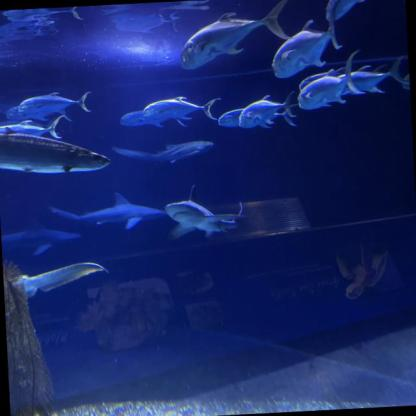fish: (174, 3, 292, 69), (0, 124, 121, 177), (264, 21, 340, 83), (293, 54, 366, 112), (111, 138, 211, 169), (234, 93, 298, 129), (340, 57, 402, 94), (16, 89, 97, 117), (296, 65, 366, 96), (142, 95, 219, 123), (210, 107, 300, 130), (118, 107, 192, 132), (0, 121, 75, 145), (316, 0, 385, 25), (2, 101, 69, 121), (399, 70, 410, 96)
shark: (55, 197, 165, 234), (167, 198, 250, 240), (0, 220, 80, 256)
